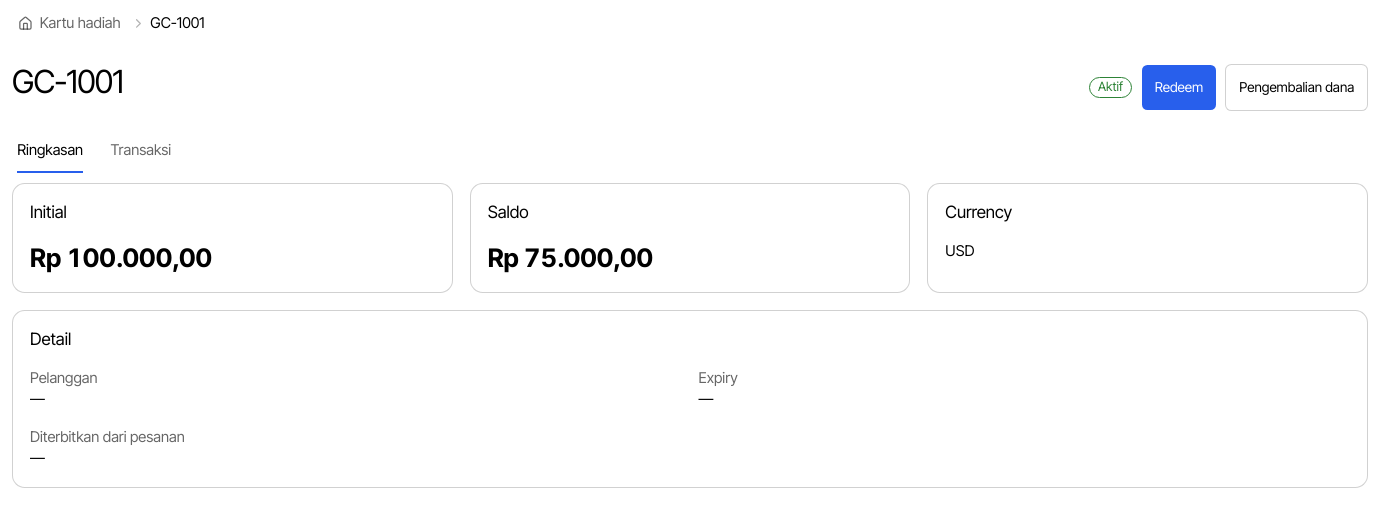
Test: GiftCardDetail branches › renders transactions with order fallbacks
Expected: the heading "GC-1001" is shown, [12,64,123,100]
Step 1. Click the tab "Transaksi" → [141, 151], box [110,128,172,174]
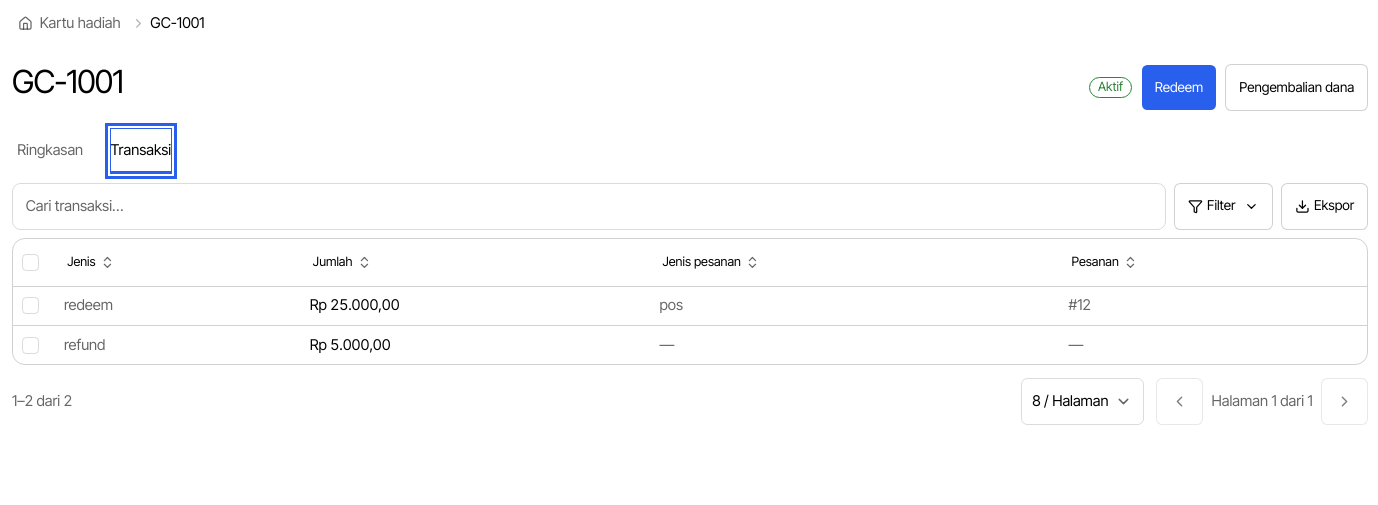
Expected: the 1st text "—" is shown, [659,336,674,354]
Expected: the text "#12" is shown, [1068,296,1091,314]
